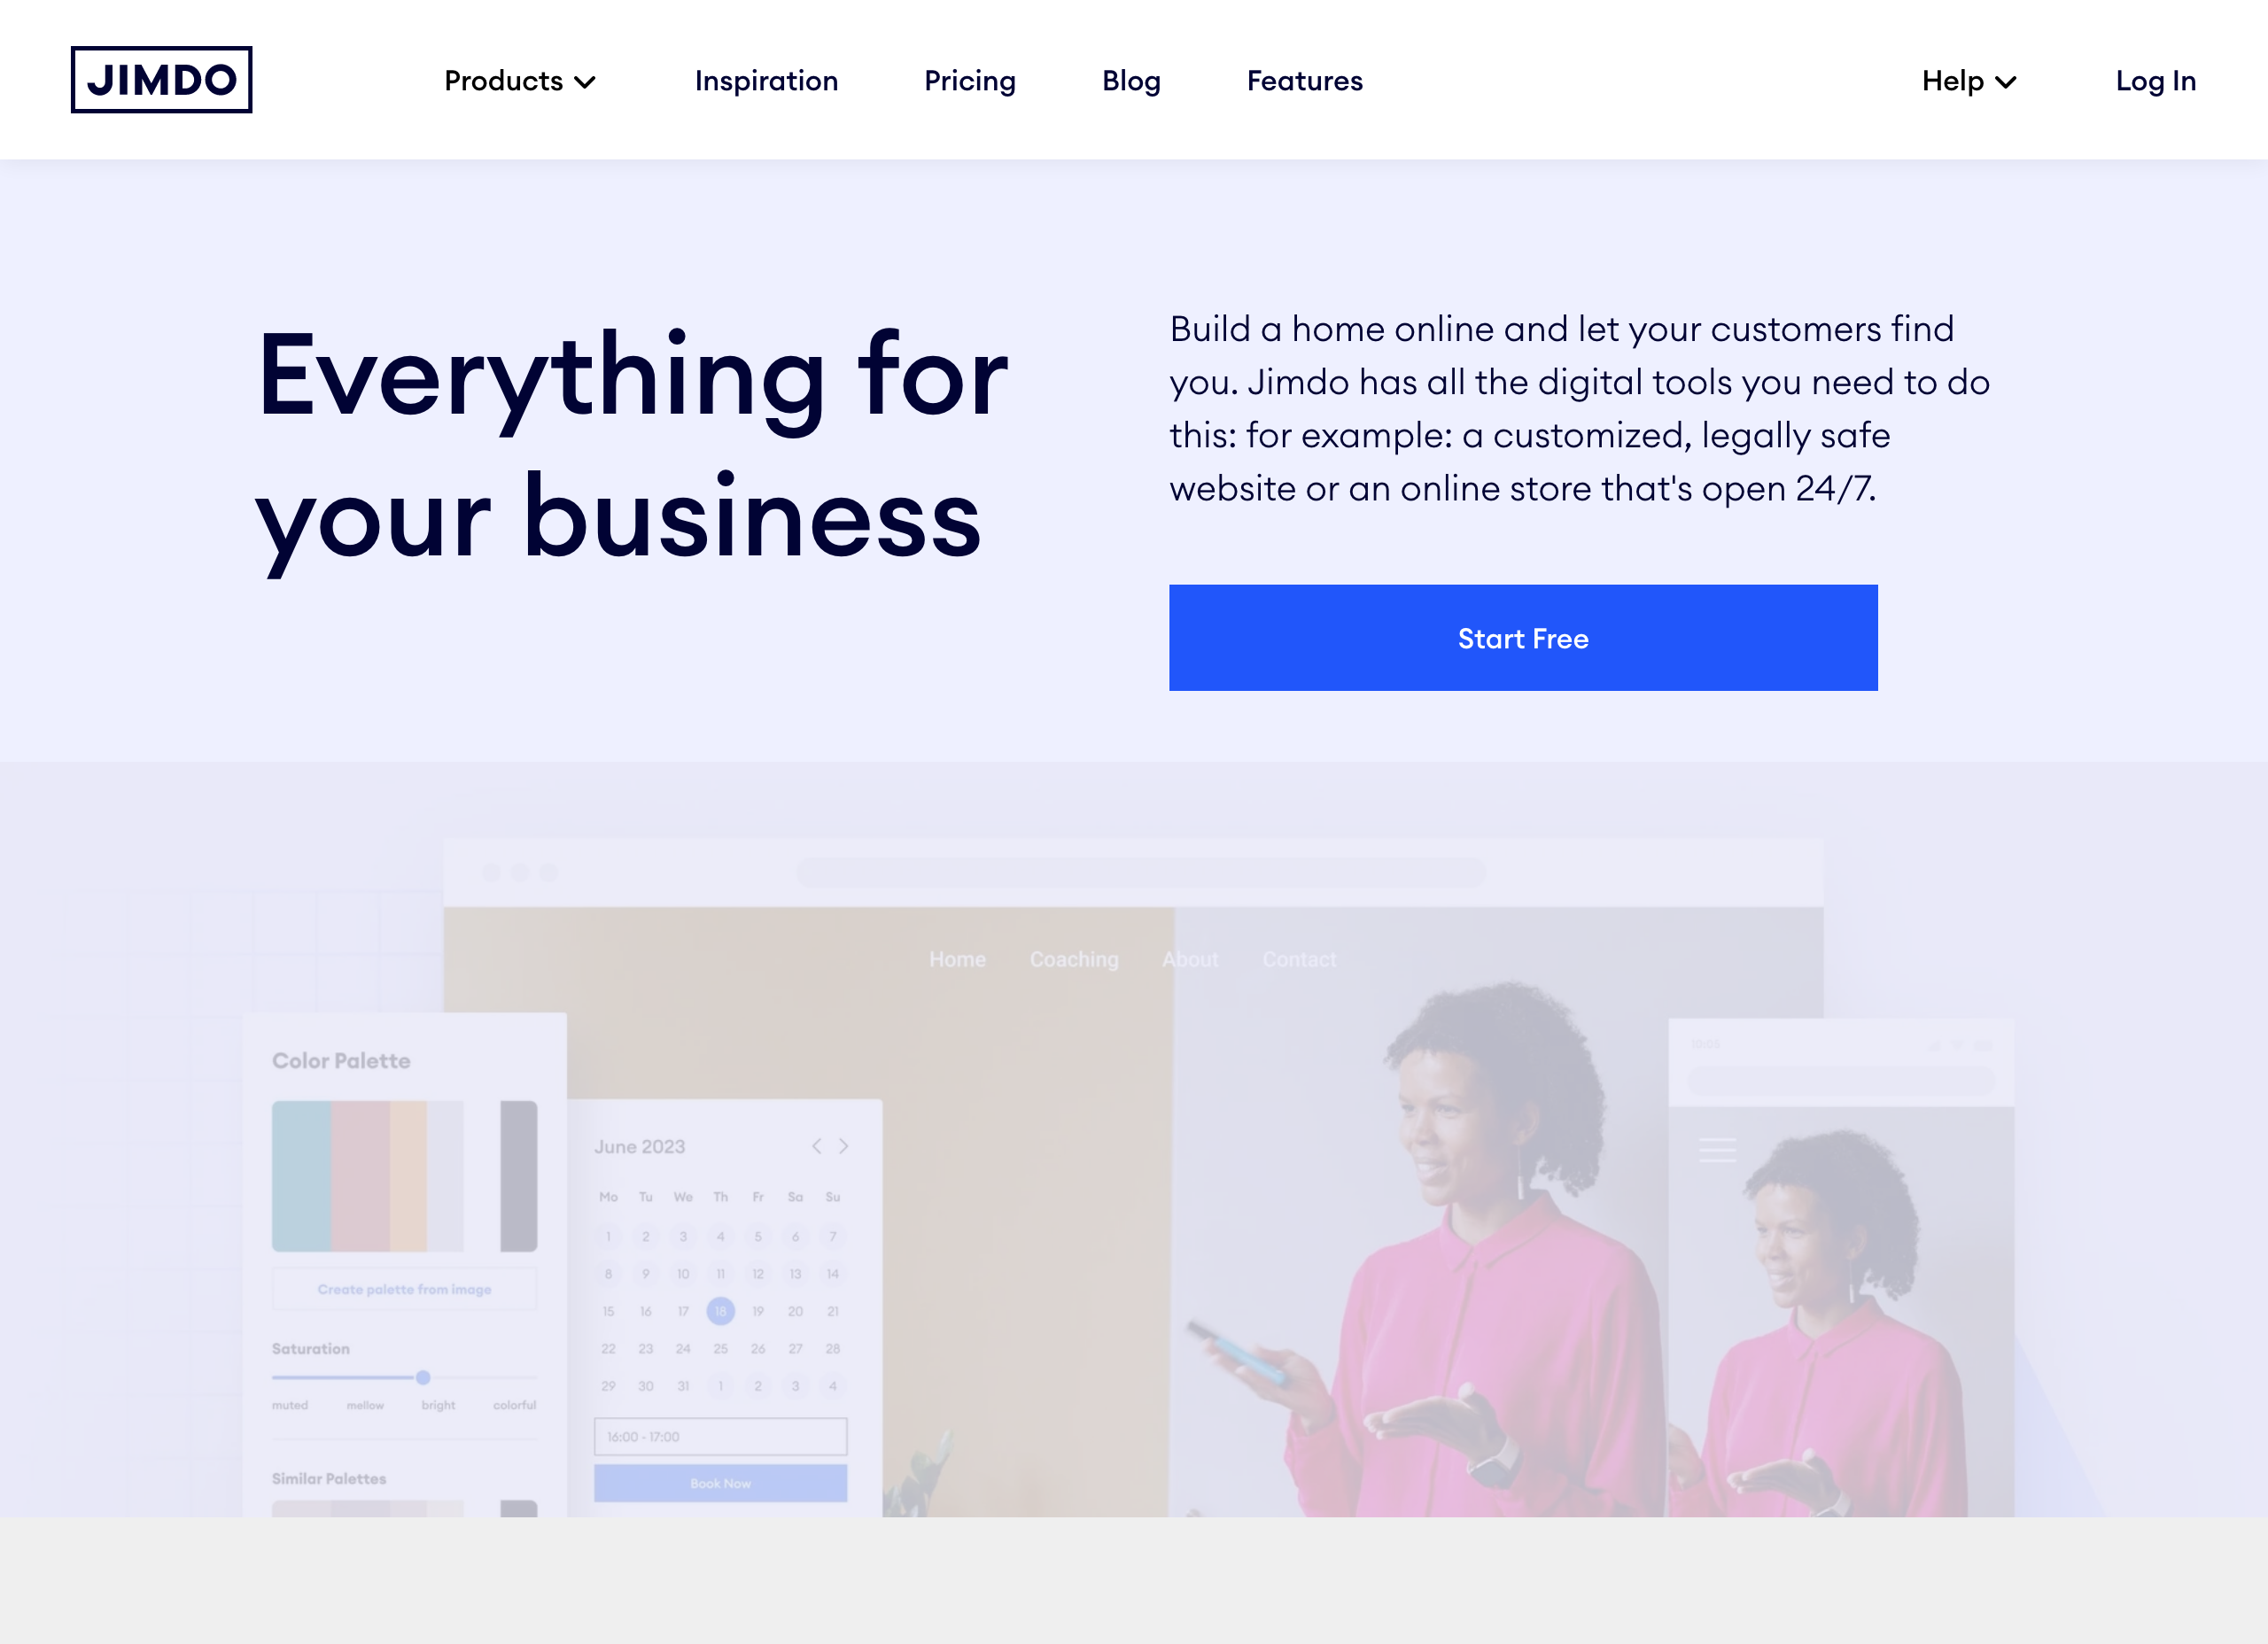Login: (2094, 35, 2229, 118)
